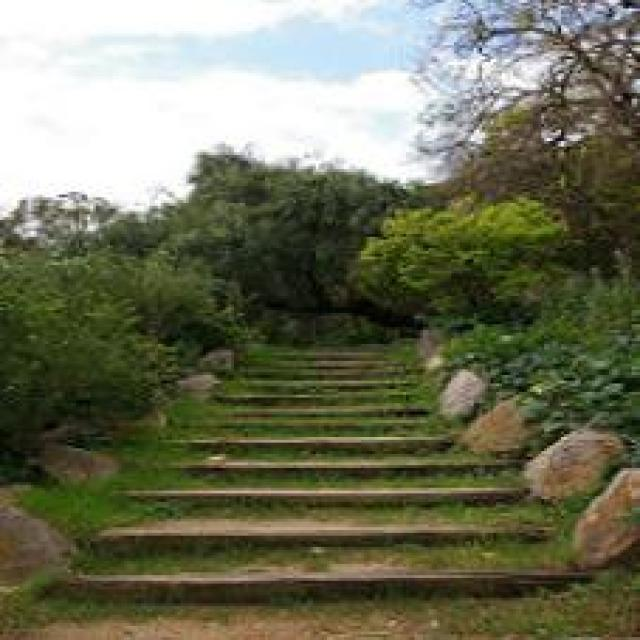stair: (76, 415, 561, 590)
